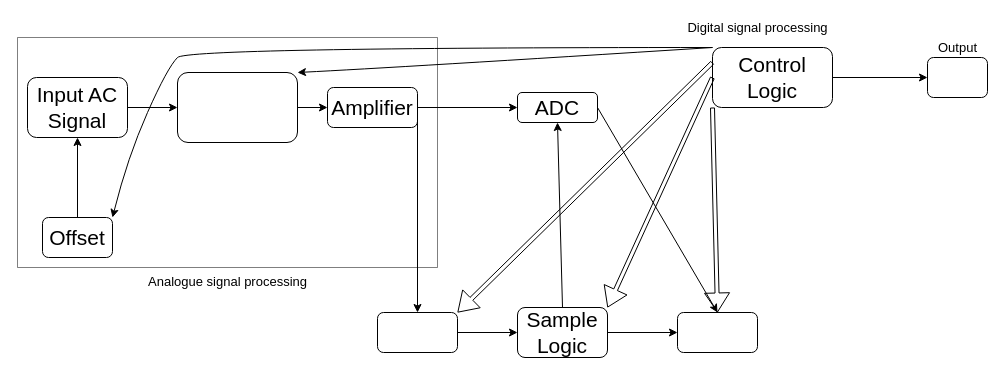
This 1005x375 diagram has some shape labels left out. Here are the shapes that lost their labels. From the top down, the centre of each, then its label:
point (957, 77): PC
point (237, 107): Attenuator (to decrease power of signal)
point (417, 332): Trigger
point (717, 332): Memory
